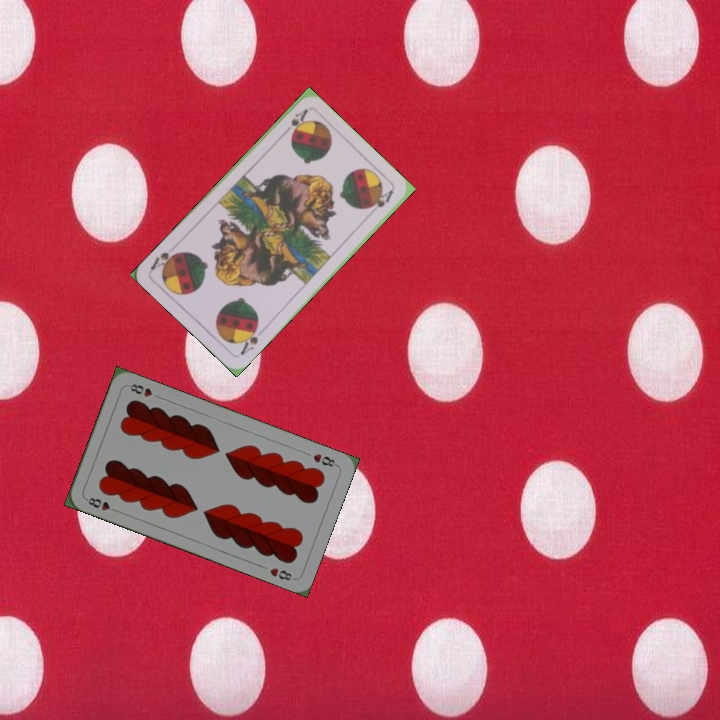H8: (82, 493, 121, 515), (309, 449, 340, 469)
SA: (236, 321, 267, 358), (278, 105, 311, 138)
